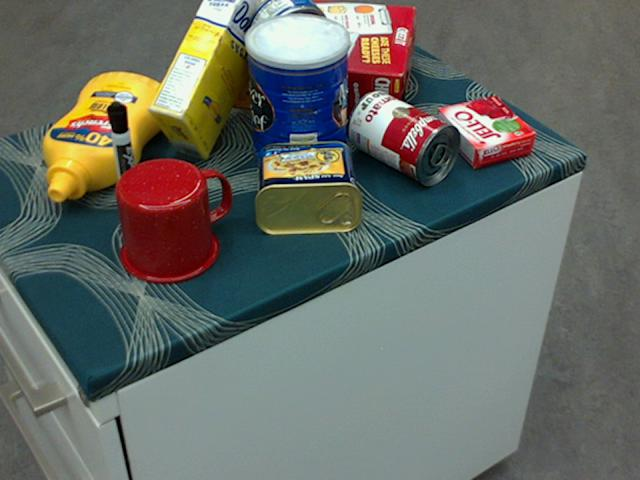cracker_box: (212, 0, 413, 122)
gelatin_box: (435, 96, 535, 167)
large_marker: (105, 101, 142, 213)
master_chef_can: (245, 13, 349, 183)
mug: (116, 157, 232, 283)
mustard_bottle: (41, 72, 171, 201)
potted_meat_can: (255, 138, 362, 236)
sugar_box: (148, 0, 270, 160)
tomato_soup_can: (347, 89, 461, 185)
tuna_fish_can: (246, 0, 329, 73)
